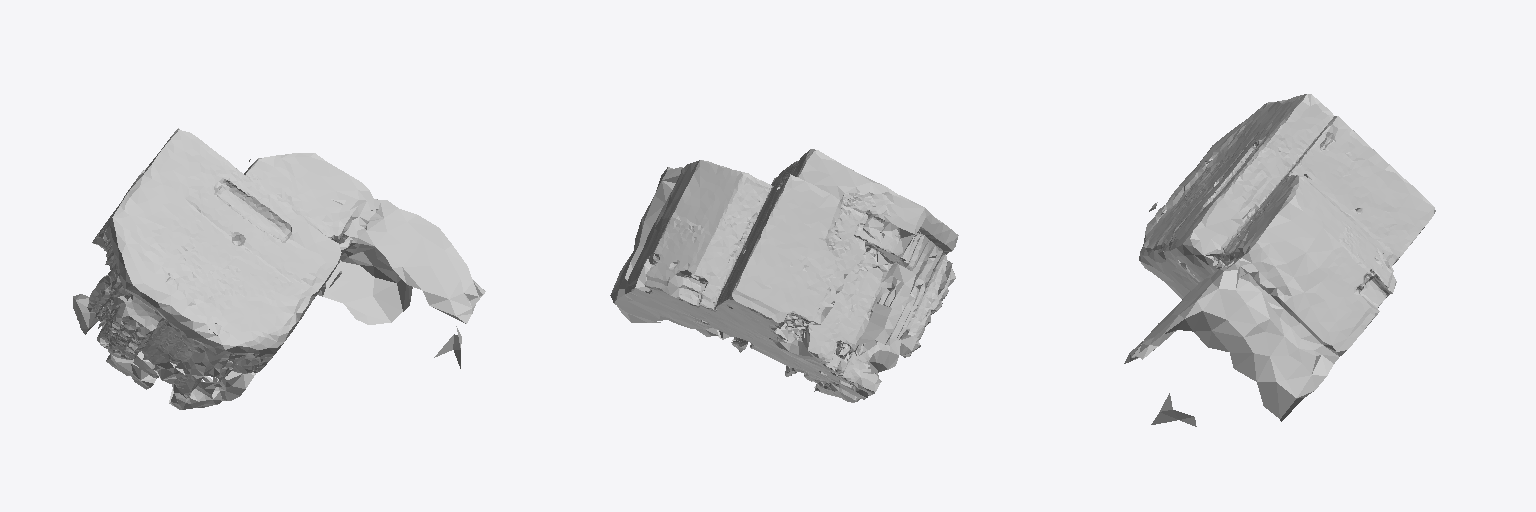
Rendered from Sledd Double.obj.
3 views of the same model, side by side, from view 1: azimuth 30°, elevation 25°; view 2: azimuth 150°, elevation 25°; view 3: azimuth 270°, elevation 25° (orthographic).
Parts seen in each view (by area): view 1: mesh_simple_rotated_0, mesh_simple_rotated_1, mesh_simple_rotated_2; view 2: mesh_simple_rotated_0, mesh_simple_rotated_1, mesh_simple_rotated_2; view 3: mesh_simple_rotated_0, mesh_simple_rotated_2, mesh_simple_rotated_1.
Part boxes in pixels (x1,y1,x2,y2): mesh_simple_rotated_0: (93, 128, 465, 382); mesh_simple_rotated_1: (73, 154, 390, 409); mesh_simple_rotated_2: (73, 208, 485, 368); mesh_simple_rotated_0: (639, 149, 958, 319); mesh_simple_rotated_1: (617, 187, 932, 402); mesh_simple_rotated_2: (610, 167, 879, 372); mesh_simple_rotated_0: (1139, 94, 1356, 339); mesh_simple_rotated_2: (1124, 182, 1435, 426); mesh_simple_rotated_1: (1280, 125, 1409, 375).
Size of the model in its own units: 5.64 by 4.39 by 4.71.